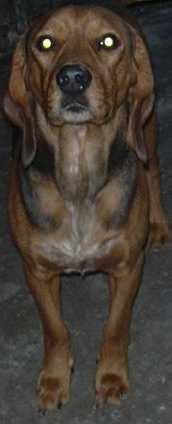dog: (0, 0, 172, 383)
